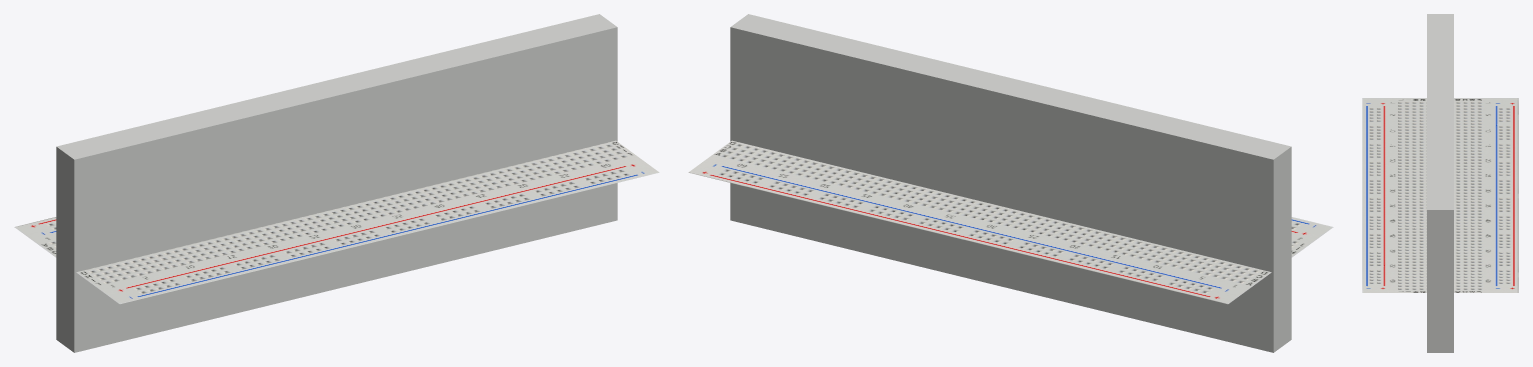
File: breadboard-low.glb
3 views of the same model, side by side, from view 1: azimuth 30°, elevation 25°; view 2: azimuth 150°, elevation 25°; view 3: azimuth 270°, elevation 25° (orthographic). The views are drawn at different scales.
Parts seen in each view (by area): view 1: Breadboard low LOD, Breadboard photographic top; view 2: Breadboard low LOD, Breadboard photographic top; view 3: Breadboard photographic top, Breadboard low LOD.
Part boxes in pixels (<box>): Breadboard low LOD: <box>56,14,617,352</box>; Breadboard photographic top: <box>14,140,659,304</box>; Breadboard low LOD: <box>730,14,1291,352</box>; Breadboard photographic top: <box>688,140,1333,304</box>; Breadboard photographic top: <box>1362,98,1518,292</box>; Breadboard low LOD: <box>1427,14,1453,352</box>.
Bounding box in the file's own units: 166 × 56.25 × 55.7.
2 materials, 1 textured.
